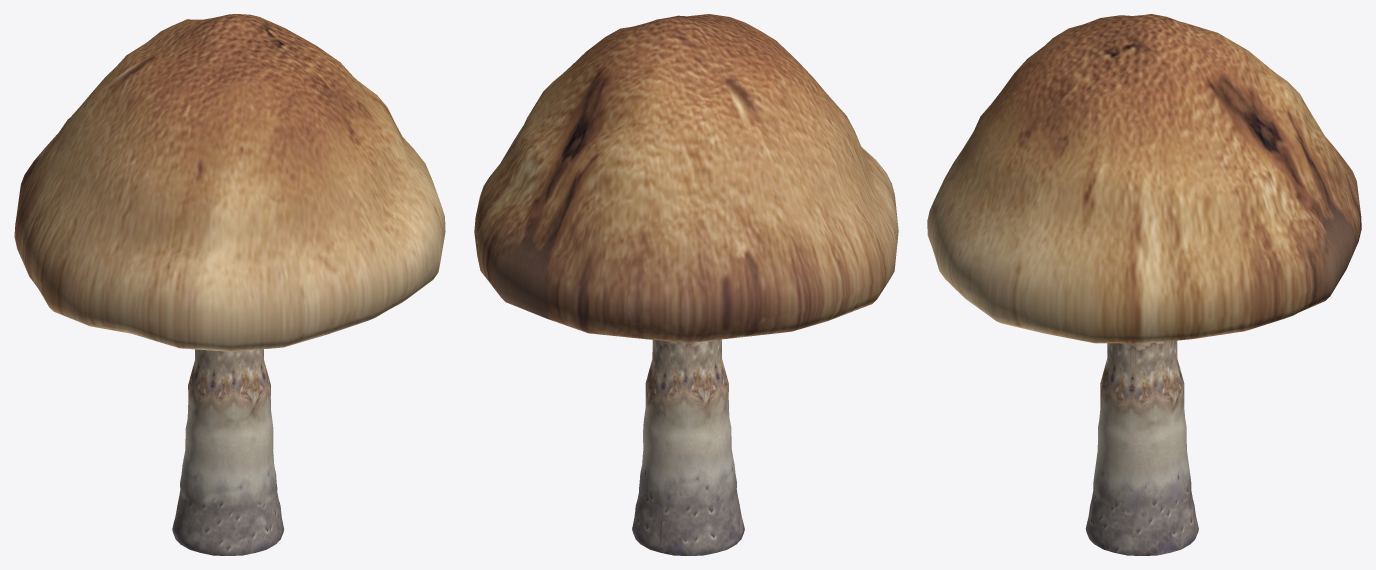
File: mapsMorph2.FBX
3 renders of one model, left to right at view 1: azimuth 30°, elevation 25°; view 2: azimuth 150°, elevation 25°; view 3: azimuth 270°, elevation 25°, orthographic.
Parts seen in each view (by area): view 1: Mushroom01a_1; view 2: Mushroom01a_1; view 3: Mushroom01a_1.
Part boxes in pixels (box(x1,y1,x2,y2)): Mushroom01a_1: box(14, 14, 445, 555); Mushroom01a_1: box(474, 14, 898, 555); Mushroom01a_1: box(927, 14, 1361, 555).
Size of the model in its own units: 140 by 183 by 139.
3 materials, 3 textured.
